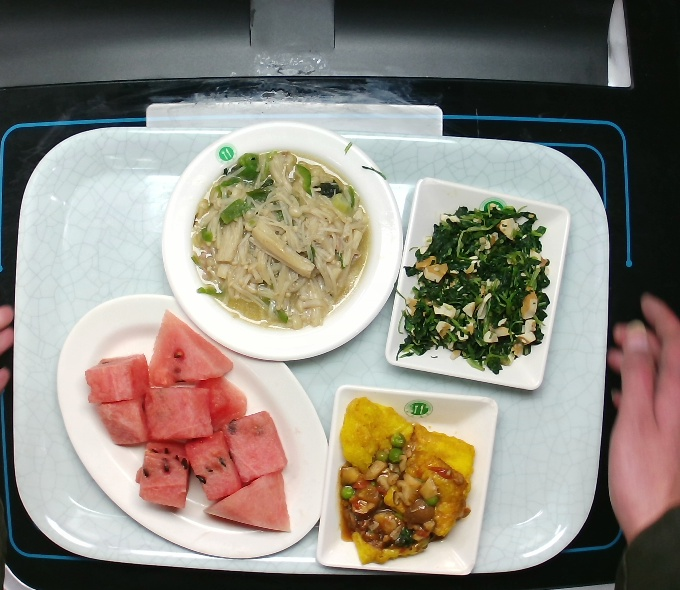wcq-CuiPiDouFu: (337, 394, 477, 565)
wcq-JinZhenGu: (189, 147, 373, 332)
wcq-MaLanTouChaoDouGan: (396, 199, 551, 373)
wcq-XiGua: (84, 310, 291, 534)
